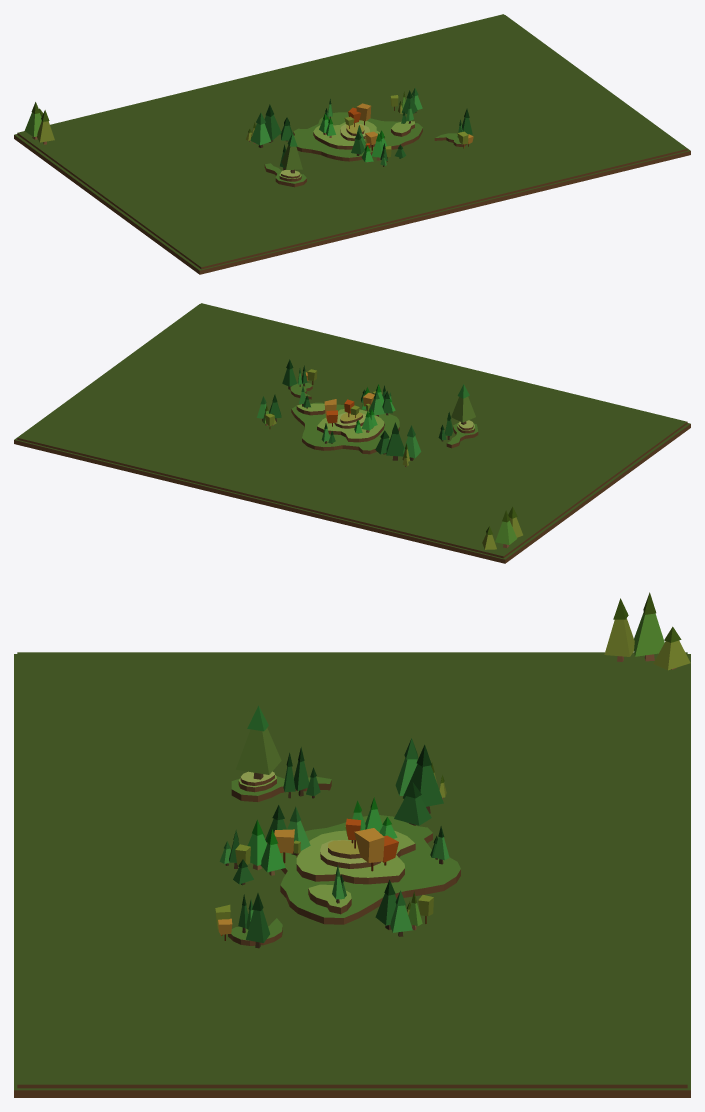
Rendered from Board .fbx.
3 renders of one model, top to bottom at view 1: azimuth 30°, elevation 25°; view 2: azimuth 150°, elevation 25°; view 3: azimuth 270°, elevation 25°, orthographic. The views are drawn at different scales.
Parts seen in each view (by area): view 1: Plane, Trees; view 2: Plane, Trees; view 3: Plane, Trees.
Part boxes in pixels (bbox=[...]): Plane: bbox=[14, 14, 690, 274]; Trees: bbox=[24, 88, 473, 173]; Plane: bbox=[14, 303, 690, 563]; Trees: bbox=[257, 359, 522, 549]; Plane: bbox=[14, 652, 690, 1097]; Trees: bbox=[215, 592, 690, 948].
Bounding box in the file's own units: 305 × 32.05 × 200.
